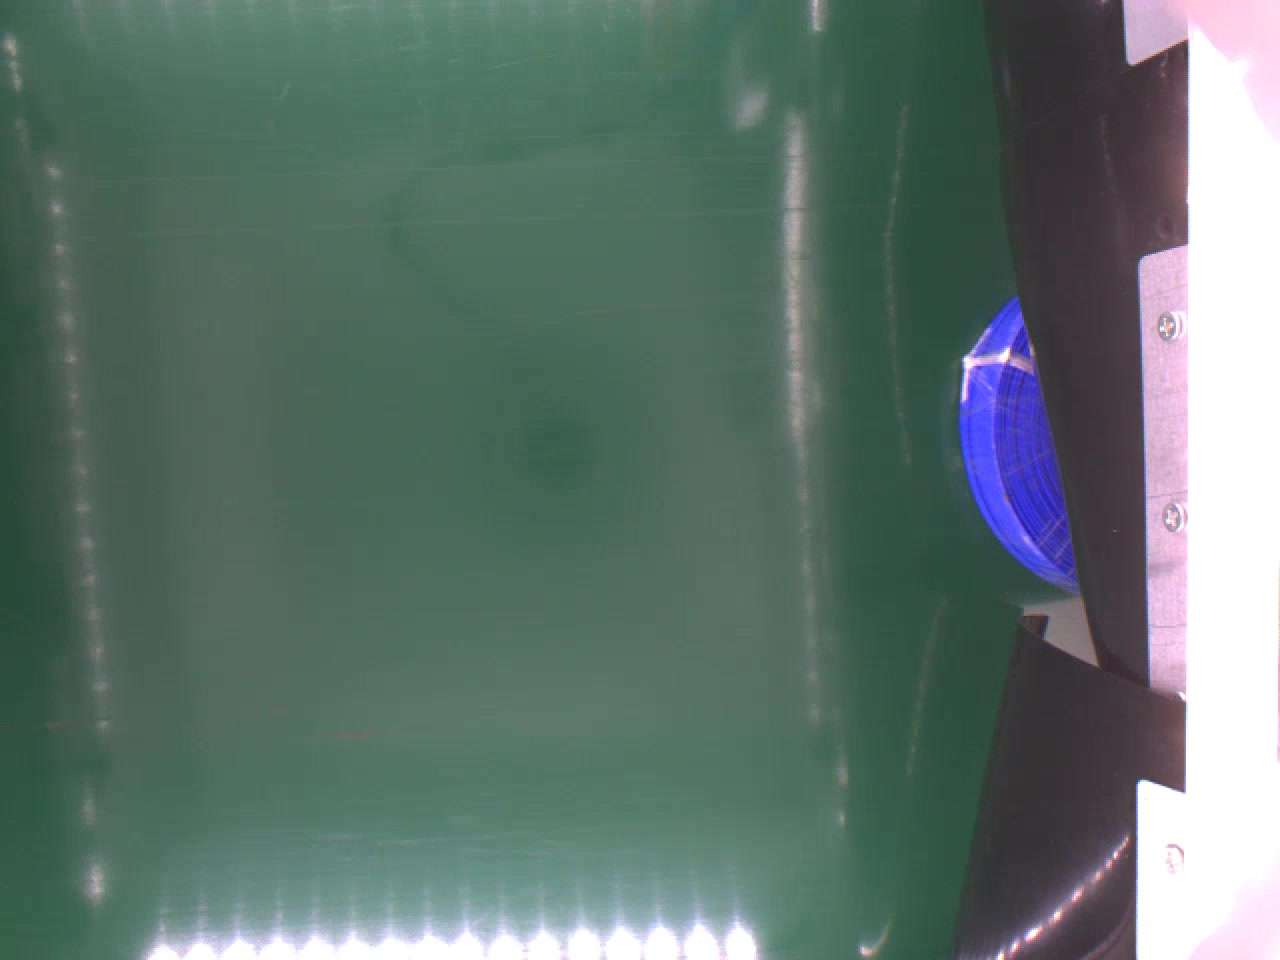blue: (958, 299, 1083, 596)
